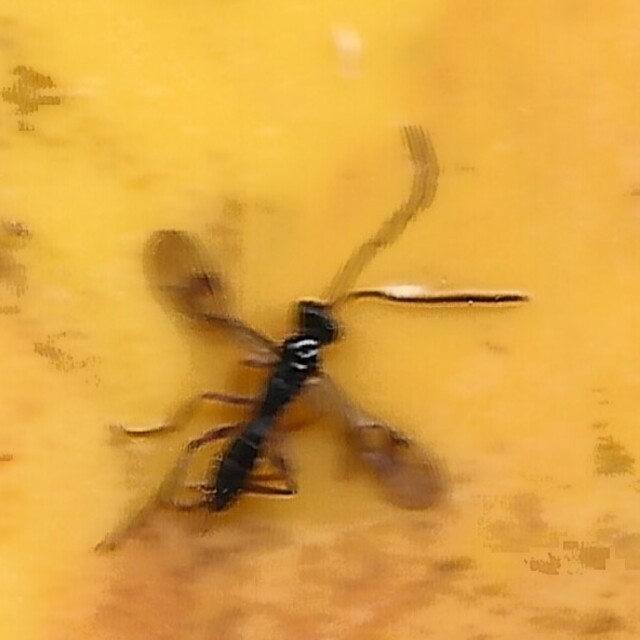Hymenoptera: (108, 123, 532, 517)
